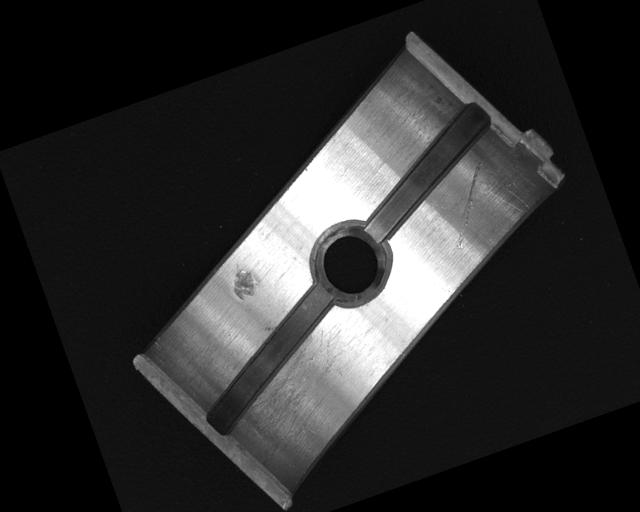bruise: (224, 257, 262, 302)
gap: (176, 280, 364, 439), (337, 98, 515, 245)
hole: (301, 212, 397, 314)
nick: (431, 161, 506, 251)
scratch: (226, 318, 373, 460)
